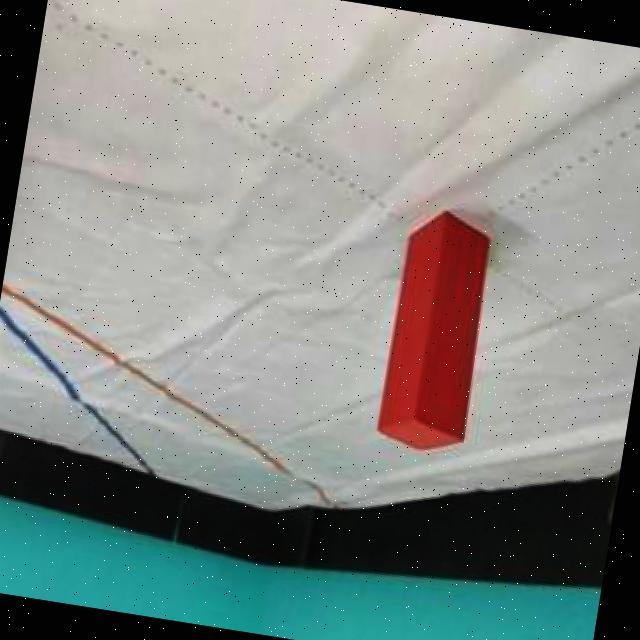redbox: (374, 205, 501, 459)
